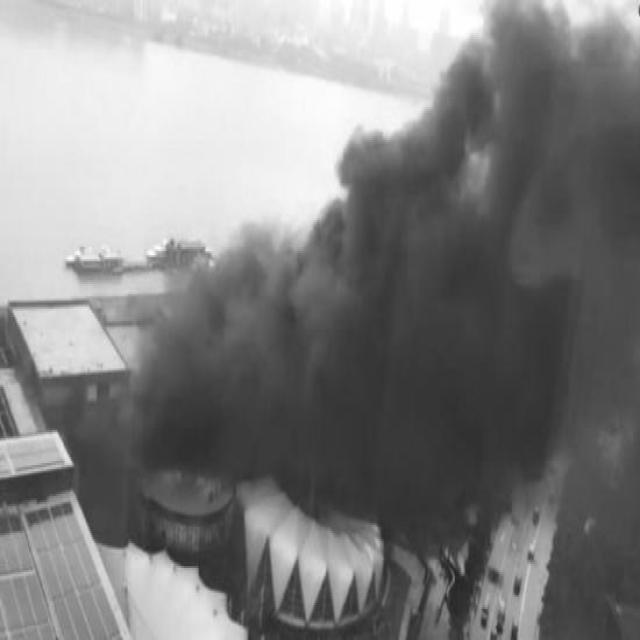Smoke: (85, 1, 638, 518)
